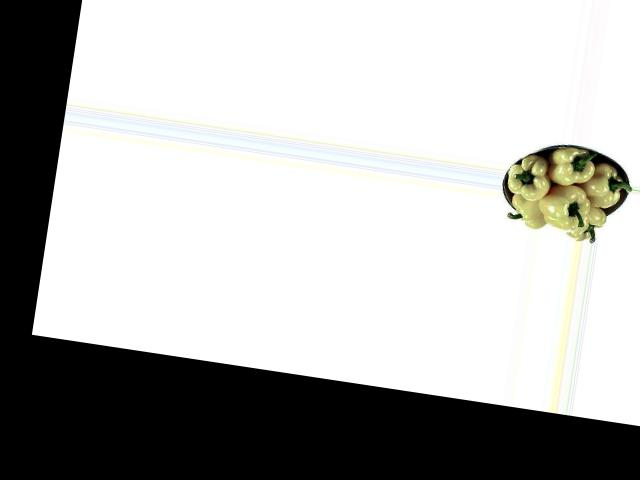bell_pepper: (565, 199, 612, 244)
